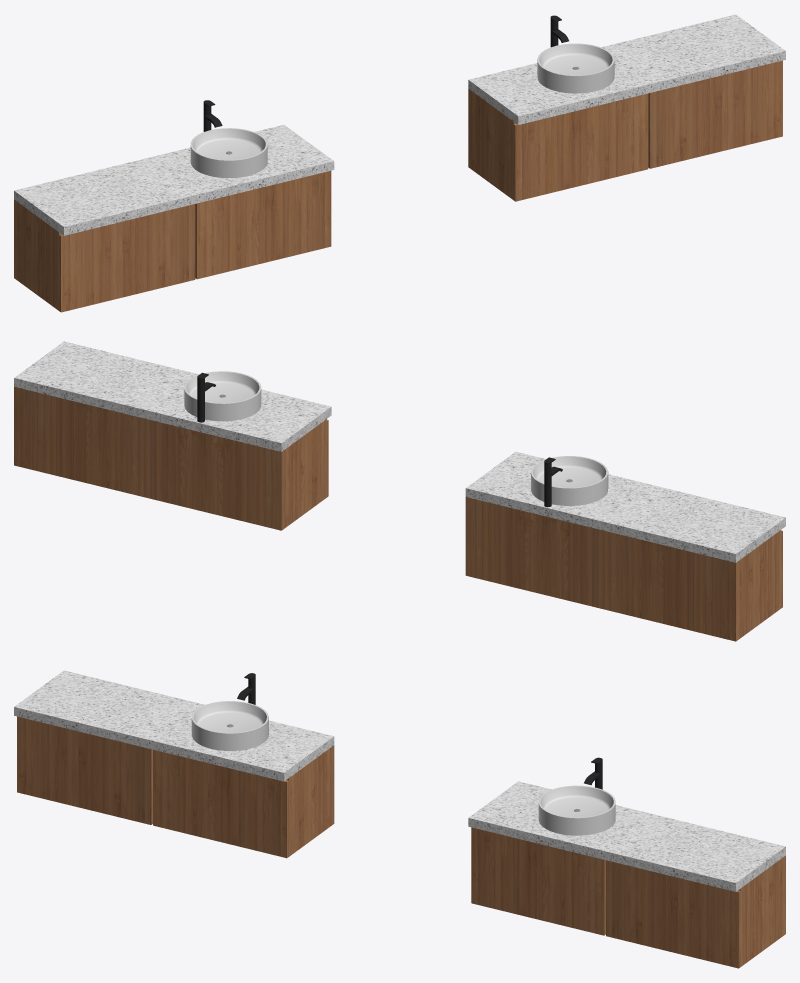
Rendered from MSH_Lavabo_Terraza_20.FBX.
3 views of the same model, one above another, from view 1: azimuth 30°, elevation 25°; view 2: azimuth 150°, elevation 25°; view 3: azimuth 330°, elevation 25° (orthographic).
Visible parts, largest first — view 1: MSH_Lavabo_Terraza_20; view 2: MSH_Lavabo_Terraza_20; view 3: MSH_Lavabo_Terraza_20.
Boxes of the visible parts, x1,y1,x2,y2 form: MSH_Lavabo_Terraza_20: (14,14,785,312); MSH_Lavabo_Terraza_20: (14,341,785,641); MSH_Lavabo_Terraza_20: (14,670,785,968).
Size of the model in its own units: 432 by 75.26 by 51.81.
